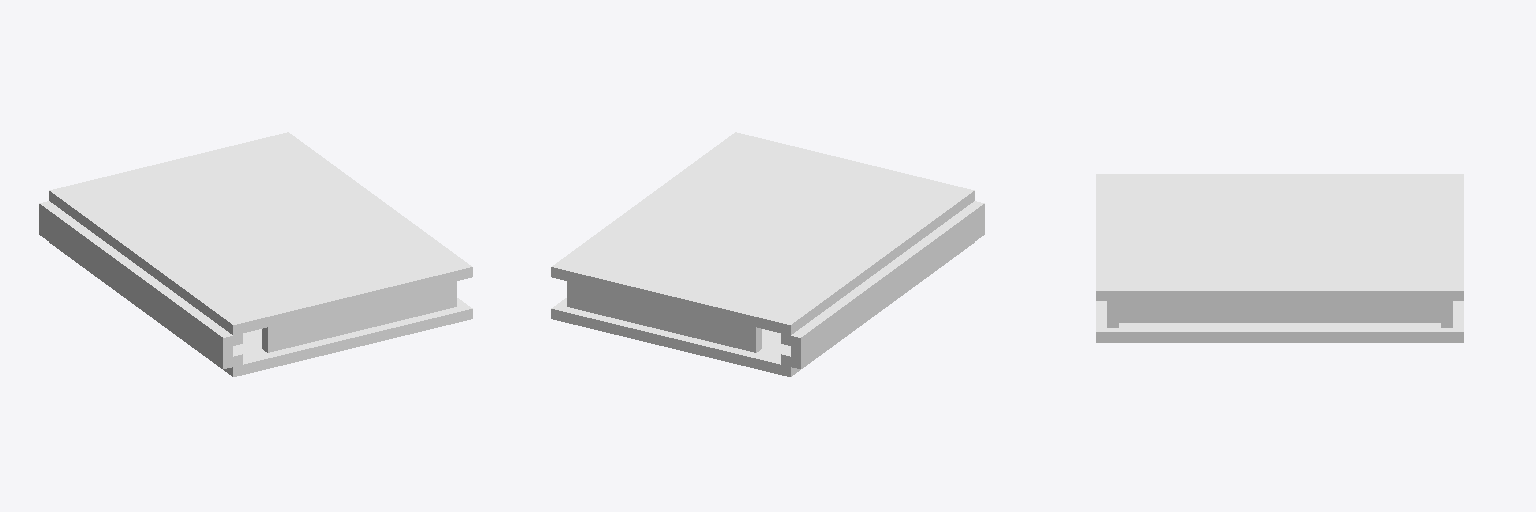
The model's file is obj.wallet.obj.
3 renders of one model, left to right at view 1: azimuth 30°, elevation 25°; view 2: azimuth 150°, elevation 25°; view 3: azimuth 270°, elevation 25°, orthographic.
Visible parts, largest first — view 1: object 1; view 2: object 1; view 3: object 1.
Boxes of the visible parts, x1=… form: object 1: x1=39, y1=132, x2=472, y2=376; object 1: x1=551, y1=132, x2=984, y2=376; object 1: x1=1096, y1=174, x2=1463, y2=342.
Bounding box in the file's own units: 2.5 × 0.5 × 3.2.